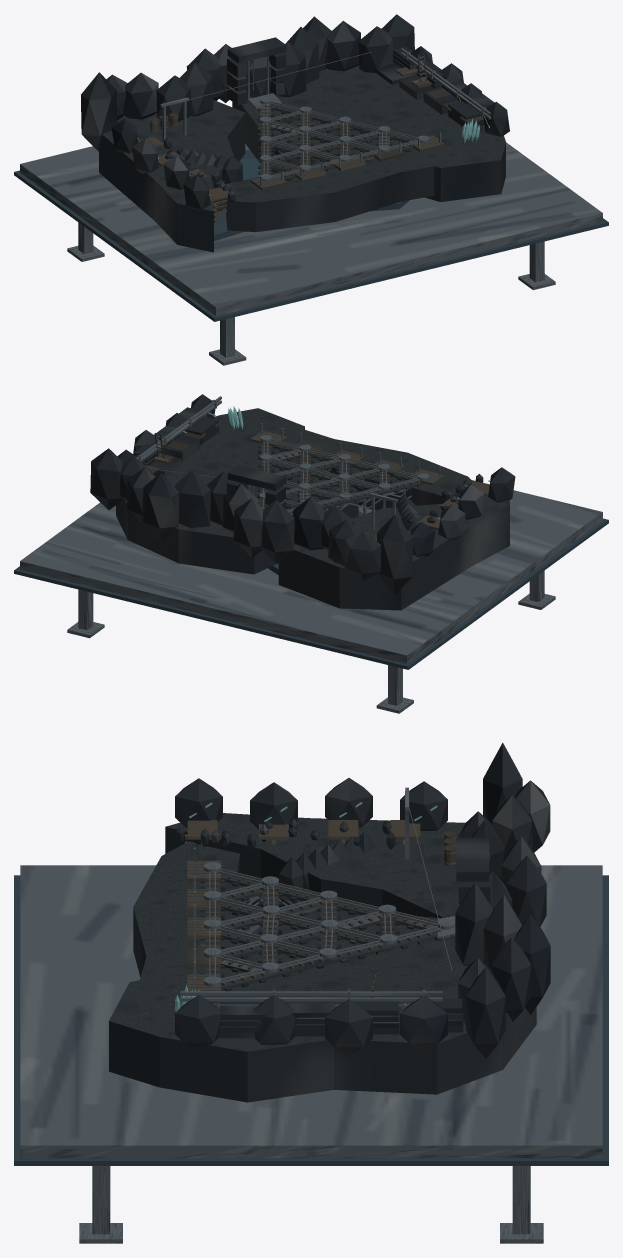
File: main-menu-diorama.glb
The picture shows the model from 3 angles, top to bottom: view 1: azimuth 30°, elevation 25°; view 2: azimuth 150°, elevation 25°; view 3: azimuth 270°, elevation 25°; orthographic projection. The views are drawn at different scales.
Visible parts, largest first — view 1: West hanging shelf.001, Bridge undergirder.001, Bridge lattice.001, Weathered east catwalk.001, Fault bed.001, Crushed-stone track bed.001; view 2: West hanging shelf.001, Bridge undergirder.001, Bridge lattice.001, Fault bed.001, Weathered east catwalk.001, Crushed-stone track bed.001; view 3: West hanging shelf.001, Bridge undergirder.001, Bridge lattice.001, Fault bed.001, Weathered east catwalk.001, Crushed-stone track bed.001.
Part boxes in pixels (x1,y1,x2,y2): West hanging shelf.001: [81, 14, 509, 252]; Bridge undergirder.001: [20, 48, 602, 357]; Bridge lattice.001: [67, 51, 555, 365]; Weathered east catwalk.001: [138, 52, 483, 222]; Fault bed.001: [14, 136, 608, 321]; Crushed-stone track bed.001: [260, 104, 416, 180]; West hanging shelf.001: [90, 394, 515, 610]; Bridge undergirder.001: [20, 396, 602, 705]; Bridge lattice.001: [67, 399, 555, 713]; Fault bed.001: [14, 431, 608, 669]; Weathered east catwalk.001: [145, 419, 489, 541]; Crushed-stone track bed.001: [260, 443, 425, 515]; West hanging shelf.001: [109, 742, 550, 1102]; Bridge undergirder.001: [20, 791, 602, 1234]; Bridge lattice.001: [79, 787, 543, 1243]; Fault bed.001: [14, 861, 608, 1165]; Weathered east catwalk.001: [185, 820, 456, 1009]; Crushed-stone track bed.001: [205, 870, 437, 990].
Bounding box in the file's own units: 20.9 × 9.35 × 18.4.
9 materials, 6 textured.
